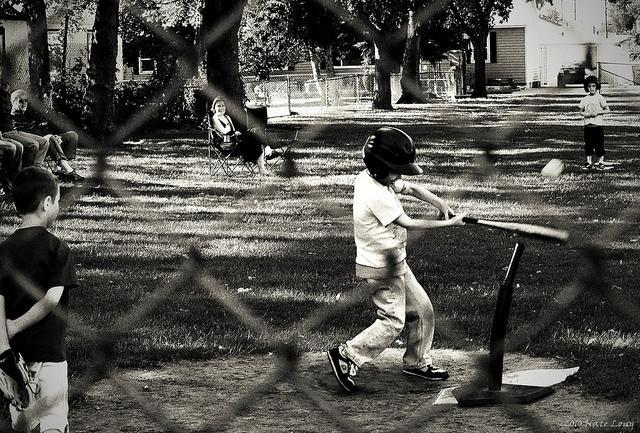car: (557, 61, 594, 88)
